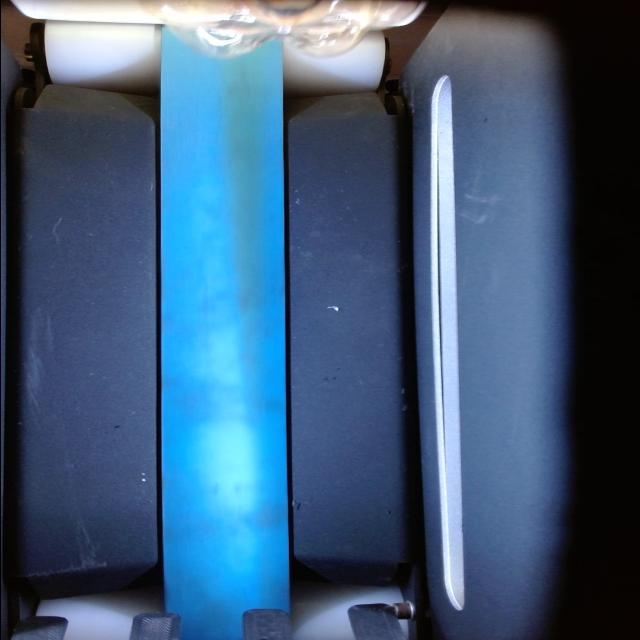bottom: (140, 0, 435, 58)
